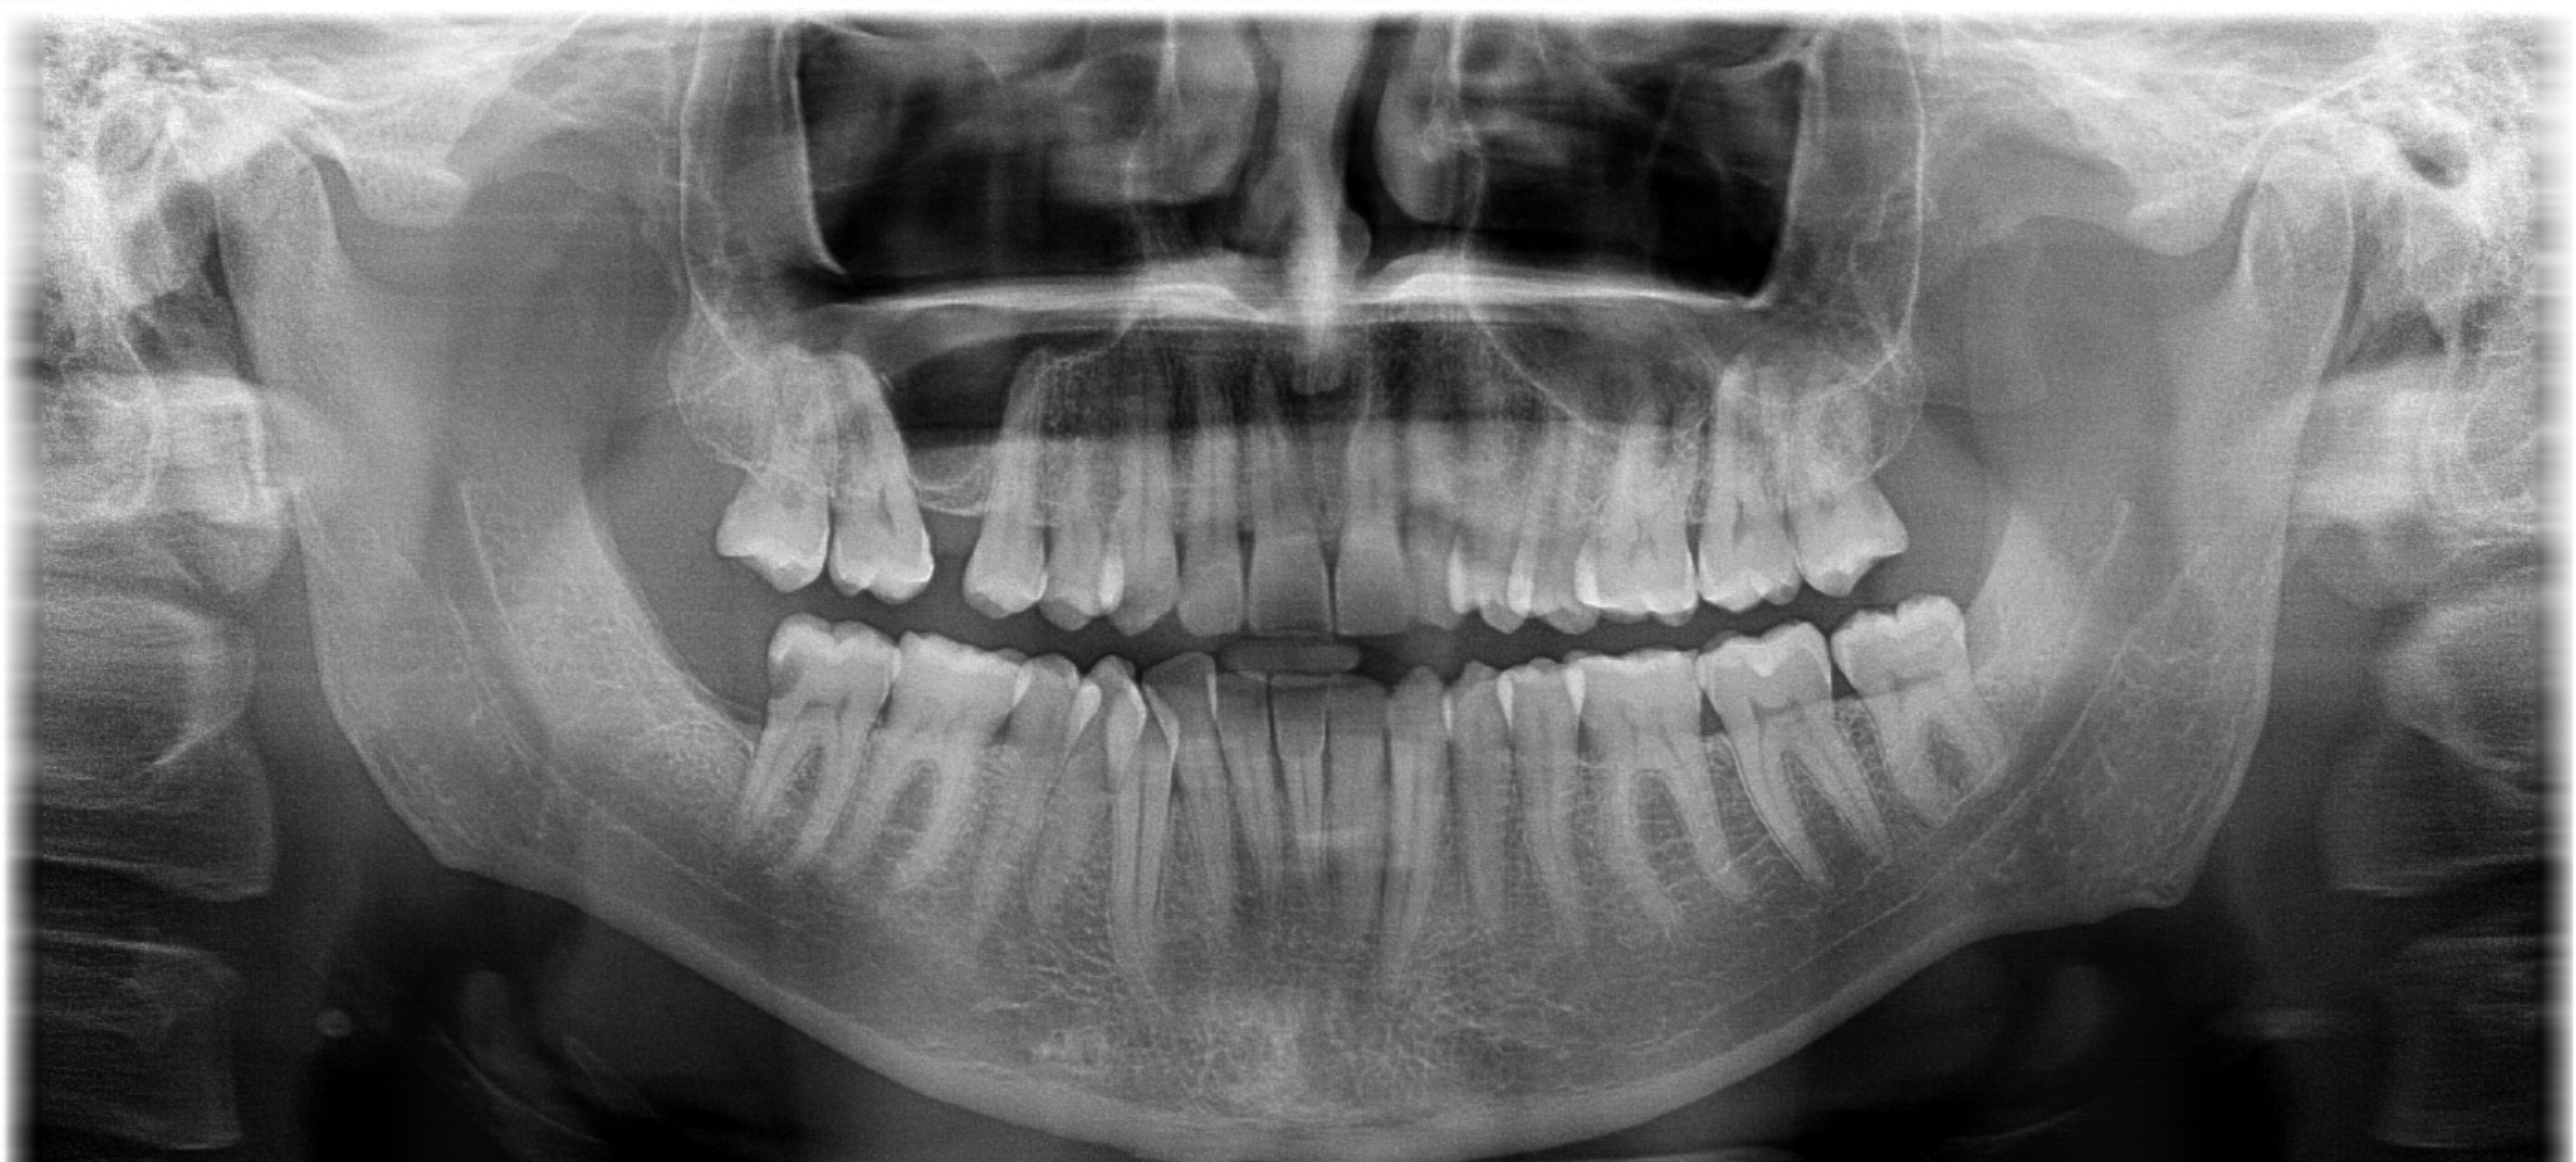apinamiento: (1360, 518, 1630, 649), (984, 648, 1254, 777)
cordal: (1822, 579, 2034, 833)
diastema: (907, 376, 997, 620)
